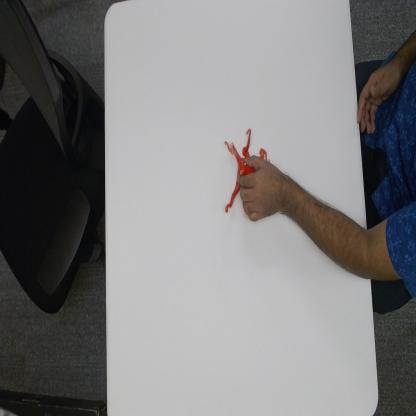Arm: (288, 176, 376, 284)
Hand: (237, 152, 287, 223)
Octopus: (224, 126, 270, 214)
